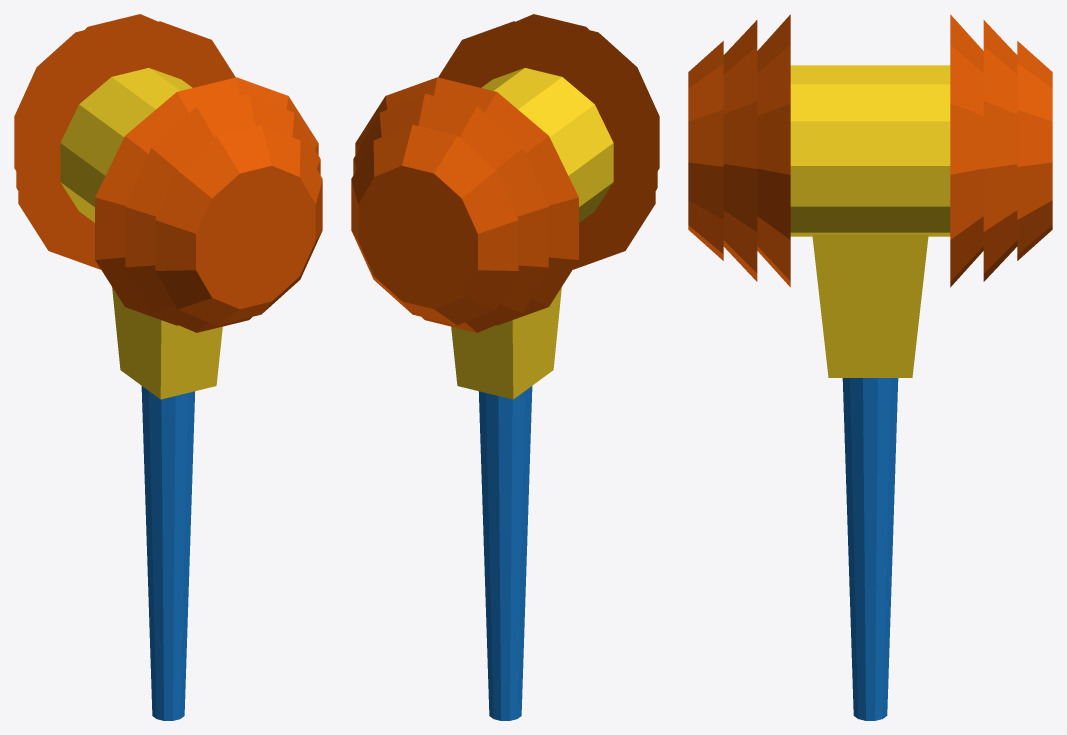
File: rubber hammer.gltf
3 views of the same model, side by side, from view 1: azimuth 30°, elevation 25°; view 2: azimuth 150°, elevation 25°; view 3: azimuth 270°, elevation 25° (orthographic). The views are drawn at different scales.
Parts seen in each view (by area): view 1: cylinder (×8), cuboid; view 2: cylinder (×8), cuboid; view 3: cylinder (×8), cuboid.
Part boxes in pixels (box(x1,y1,x2,y2)): cylinder (×8): box(14, 14, 322, 720); cuboid: box(112, 287, 222, 399); cylinder (×8): box(351, 14, 659, 720); cuboid: box(451, 287, 561, 399); cylinder (×8): box(688, 14, 1052, 720); cuboid: box(812, 234, 928, 377).
Bounding box in the file's own units: 1 × 2.81 × 1.36.
1 material, 1 textured.
